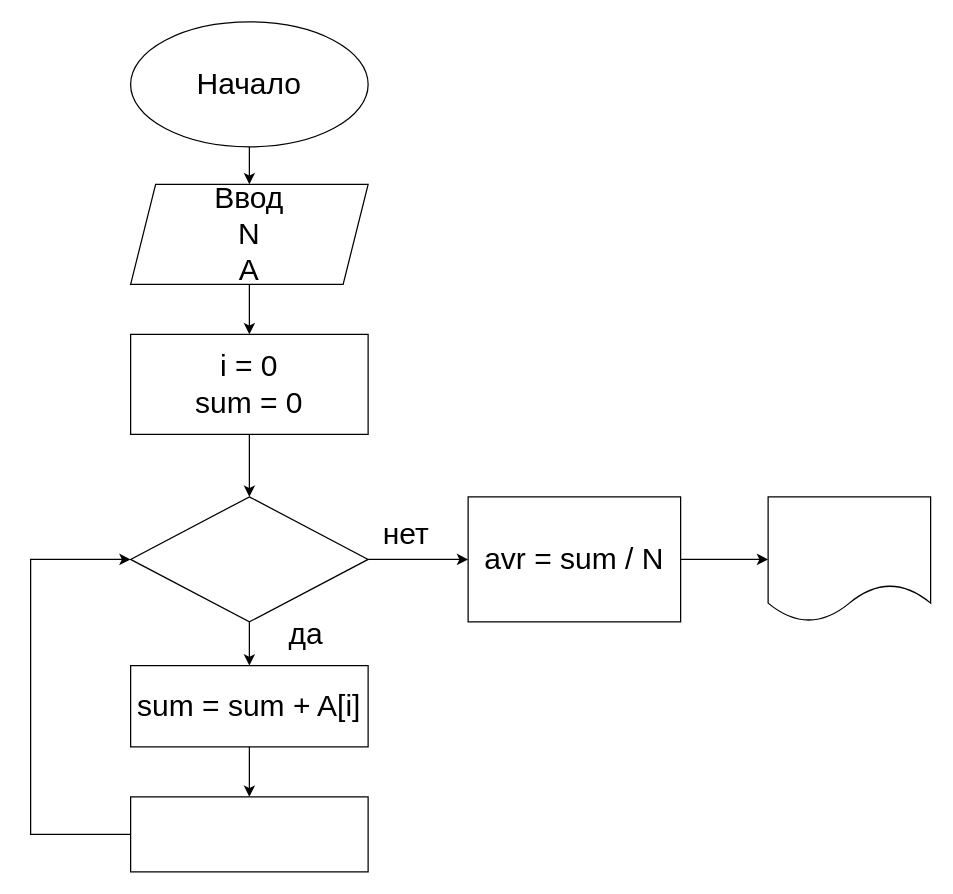
The diagram is 953 pixels wide and 894 high, and some of its shapes have lost their labels. The shapes that lost their labels are listed below. From the top down, each one's centre as x and y in pixels, then its label:
point (248, 559): i < N
point (849, 559): Вывод avr
point (248, 834): i = i + 1
